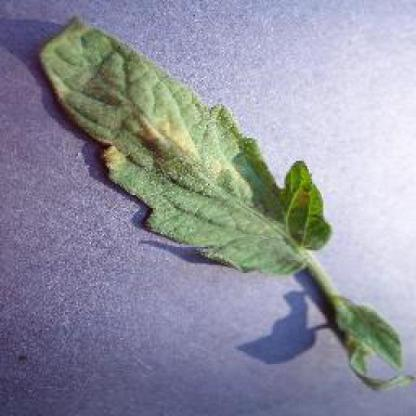Tomato_Leaf_Mold: (40, 26, 329, 270)
